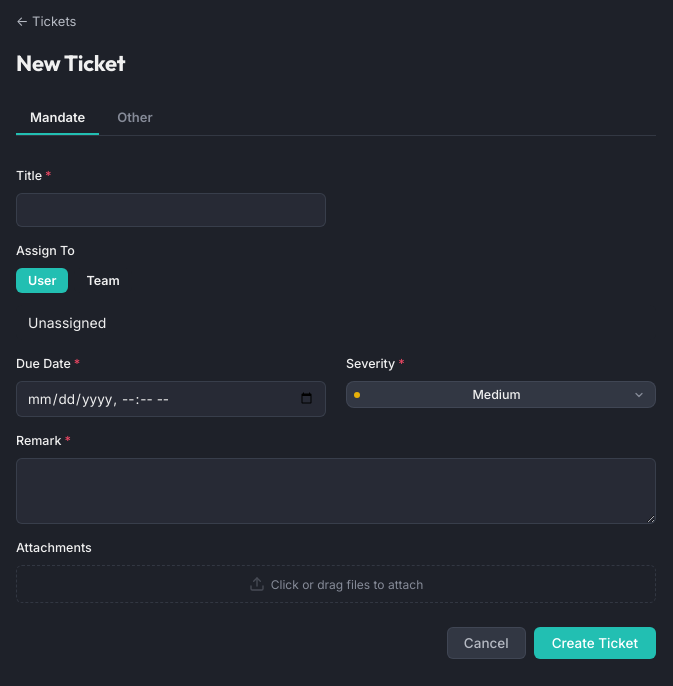
Test: CustomerRecordCreate — User/Team assign-mode toggle › blocks submit in Team mode while Due Date and Remark are empty
Check: the text "Title" is shown, box [16,168,42,183]
Type "Some ticket" into the field below "Title" at (171, 210), box [16,193,326,227]
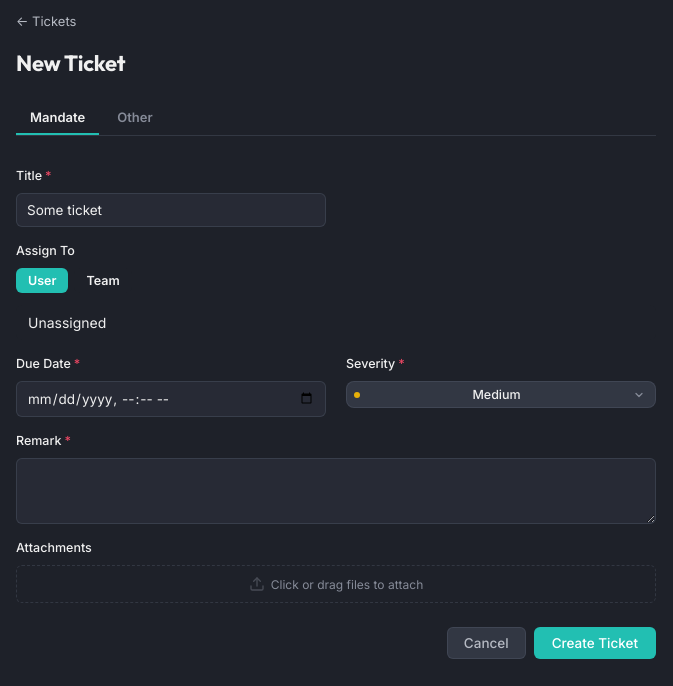
Click the button "Team" at (103, 280), box [74,268,132,293]
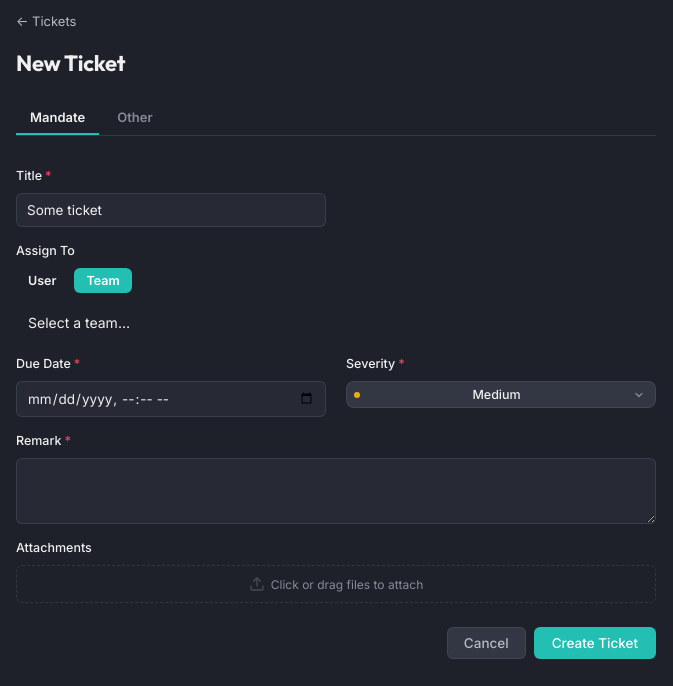
Click the button "Create Ticket" at (595, 643), box [534,627,656,659]
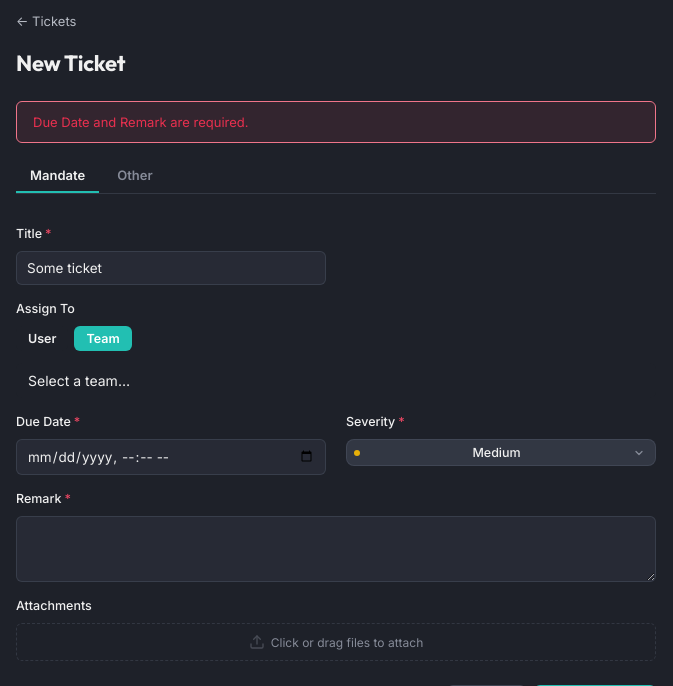
Check: the text "Due Date and Remark are required." is shown, box [16,101,656,143]
